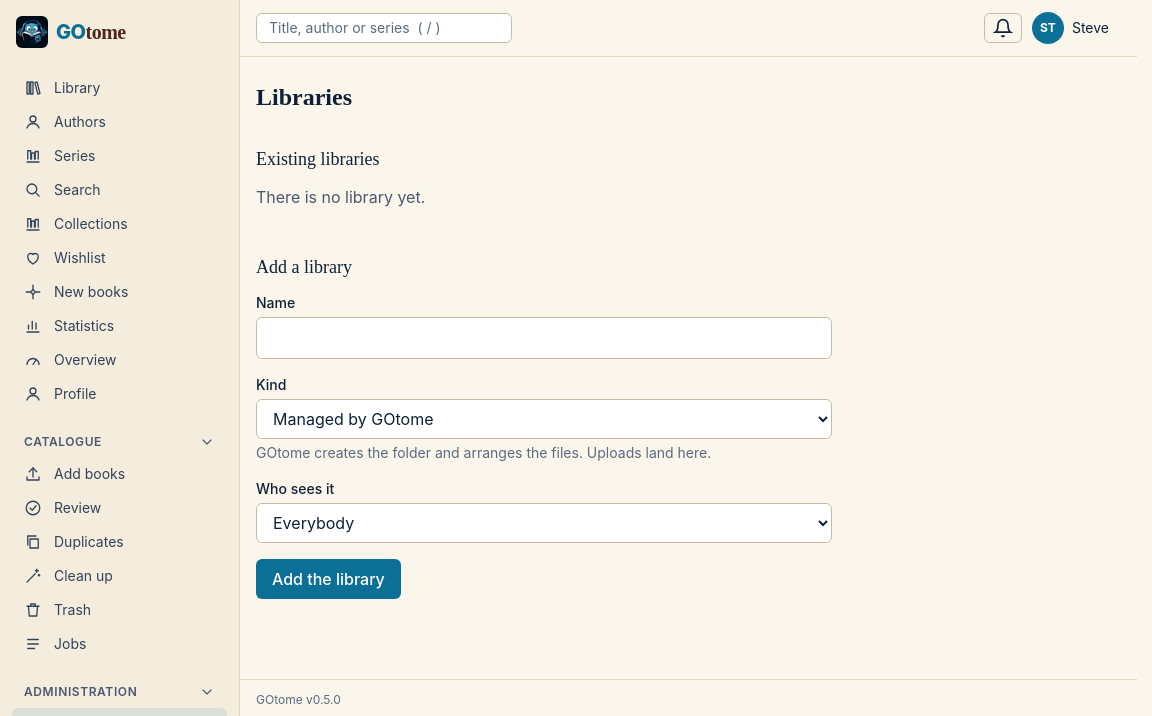
Test: libraries › adds a managed library and shows it on the library page
Expected: the text "There is no library yet." is shown, [256,187,425,207]
Step 1. Type "Novels" into the field labelled "Name" → (544, 338), box [256,317,832,359]
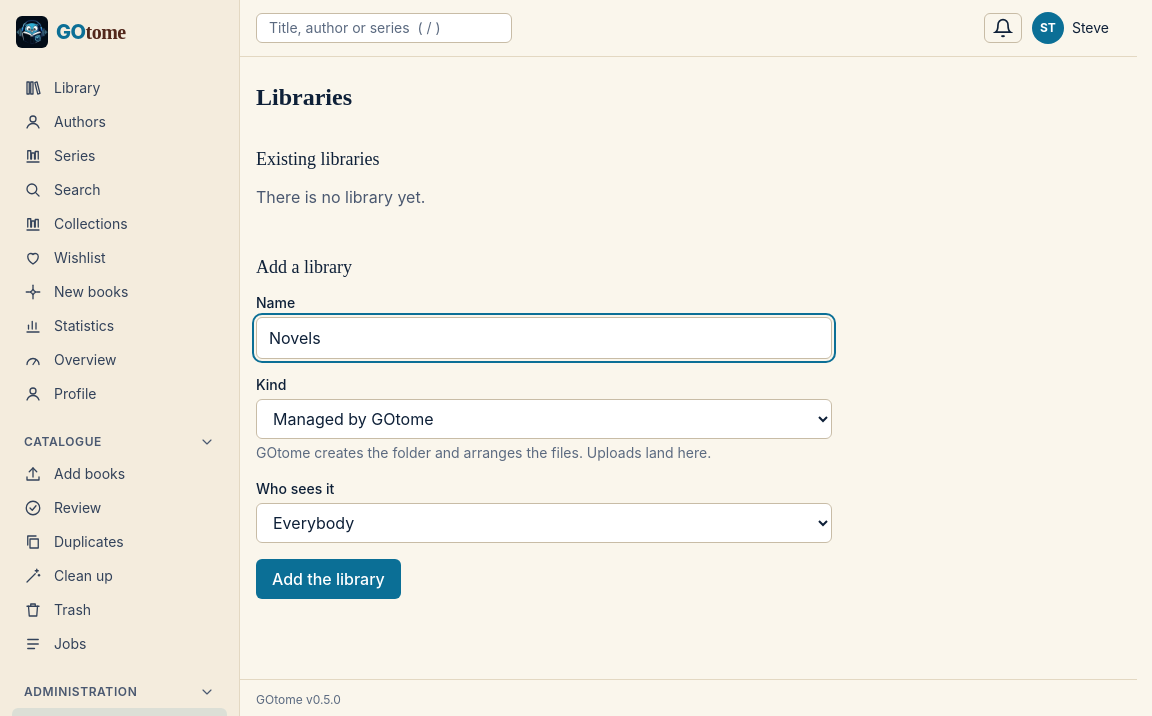
Step 2. Click the button "Add the library" → click(328, 579), box [256,559,401,599]
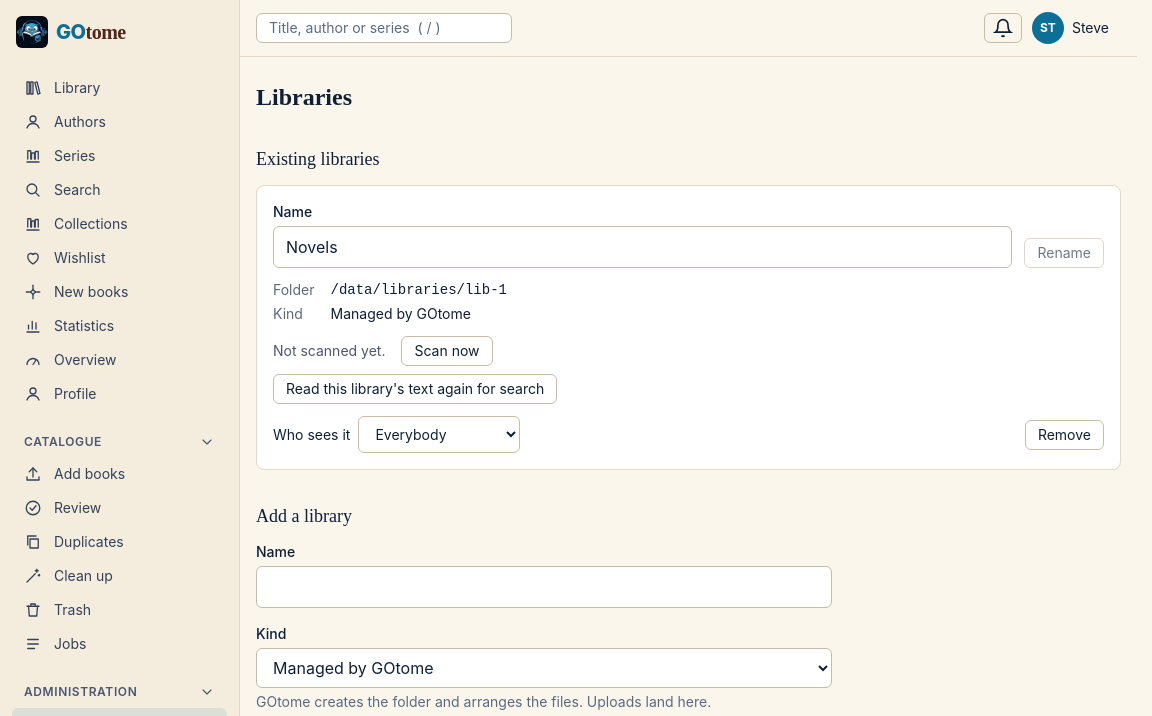
Now the text "Managed by GOtome" is shown, box [330,305,471,322]
Now the field labelled "Name" below "Add a library" is empty, box [256,566,832,608]
Step 3. Click the link "Library" → click(62, 88), box [24,79,100,97]
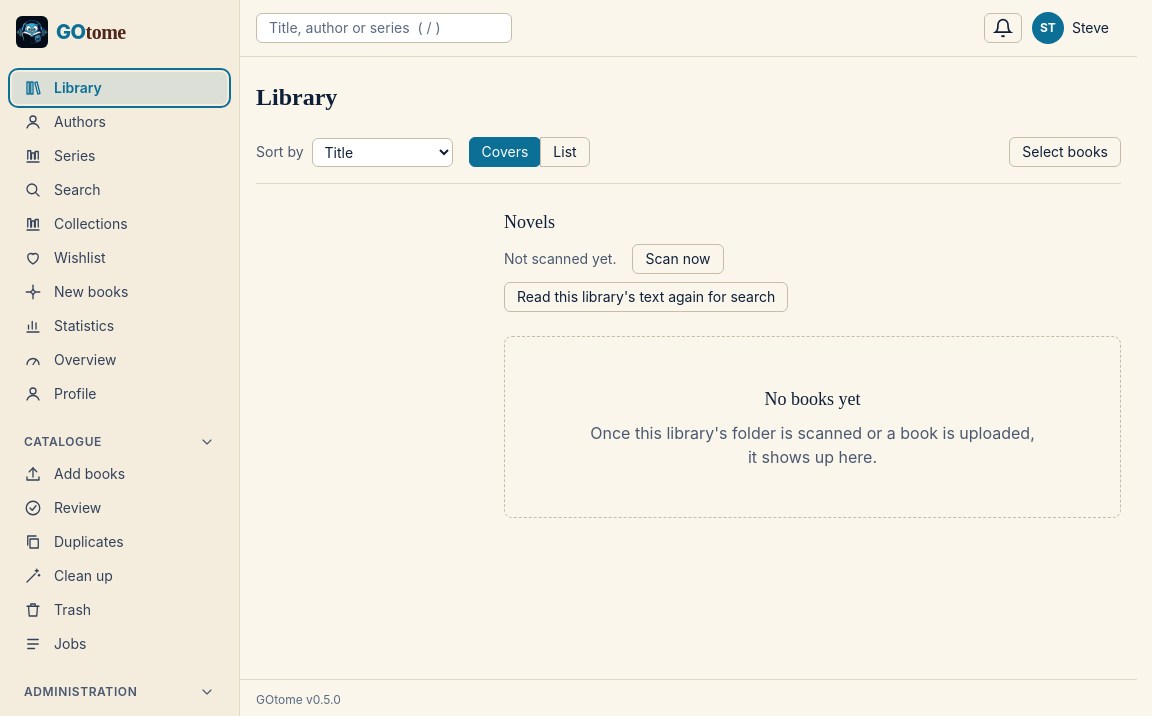
Now the heading "Novels" is shown, box [504,212,555,232]
